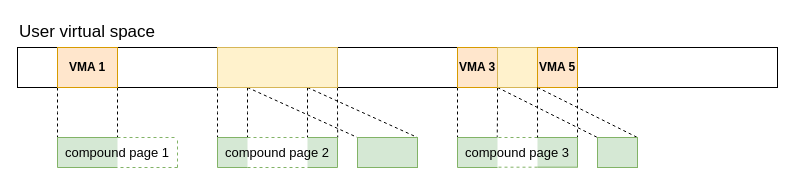
Some shapes in this 795 by 186 pixel diagram are drawn without their labels. The box of each missing label's shape, as (x1, y1, x2, y2) in pixels:
VMA 2: (216, 46, 338, 88)
VMA 4: (496, 46, 538, 88)
